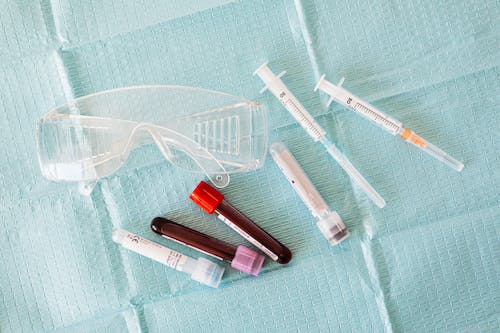blood: (212, 201, 294, 266), (149, 215, 235, 265)
